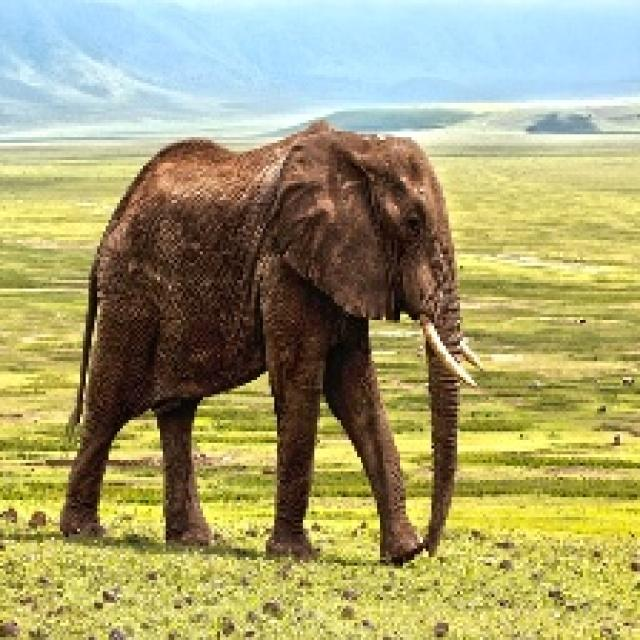animal: (74, 113, 522, 601)
